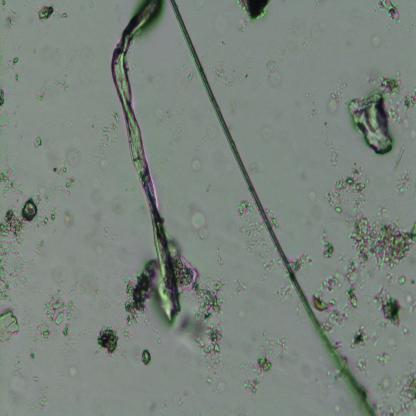Background material: (0, 161, 77, 302), (326, 167, 416, 277), (175, 252, 228, 380), (346, 74, 397, 155), (116, 260, 164, 326), (317, 261, 361, 329), (244, 333, 289, 392), (9, 359, 53, 414), (34, 294, 76, 350), (83, 188, 120, 246), (373, 366, 416, 414), (256, 248, 284, 300), (93, 110, 121, 161), (312, 120, 341, 167), (376, 282, 401, 329), (142, 101, 177, 134), (240, 202, 262, 252), (235, 0, 271, 30), (394, 144, 414, 193), (80, 269, 105, 307), (387, 89, 416, 121), (282, 20, 310, 52), (97, 325, 121, 357), (0, 312, 20, 350), (212, 58, 236, 89), (257, 117, 279, 149), (327, 81, 346, 116), (0, 0, 22, 28), (375, 0, 400, 24), (349, 323, 371, 350), (289, 251, 316, 273), (37, 3, 68, 22), (191, 208, 209, 240), (58, 147, 85, 168), (265, 52, 282, 85), (233, 272, 251, 303), (6, 52, 21, 86), (52, 73, 72, 94), (66, 356, 81, 382), (35, 82, 51, 101), (179, 70, 198, 86), (186, 158, 202, 176), (0, 110, 12, 130), (376, 348, 390, 364), (41, 48, 53, 66), (140, 349, 152, 366), (309, 188, 318, 206), (84, 47, 94, 63), (33, 137, 43, 148), (0, 88, 5, 107)
Cellulose filter fibre: (109, 1, 178, 324)
Microfibre: (169, 1, 376, 415)
